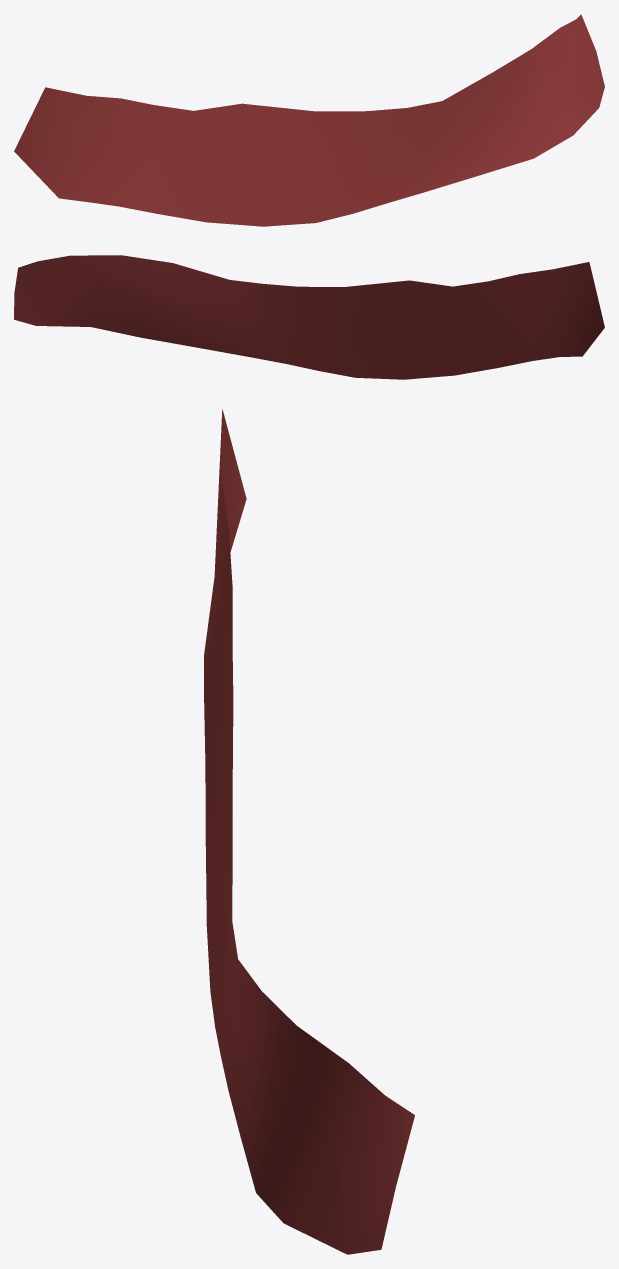
File: superficial-transverse-metacarpal-ligament-l.glb
The picture shows the model from 3 angles, top to bottom: view 1: azimuth 30°, elevation 25°; view 2: azimuth 150°, elevation 25°; view 3: azimuth 270°, elevation 25°; orthographic projection. The views are drawn at different scales.
Parts seen in each view (by area): view 1: Superficial transverse metacarpal ligament.l; view 2: Superficial transverse metacarpal ligament.l; view 3: Superficial transverse metacarpal ligament.l.
Boxes of the visible parts, bbox=[...] form: Superficial transverse metacarpal ligament.l: bbox=[14, 14, 604, 226]; Superficial transverse metacarpal ligament.l: bbox=[14, 255, 604, 379]; Superficial transverse metacarpal ligament.l: bbox=[204, 409, 414, 1254].
Bounding box in the file's own units: 0.0743 × 0.0226 × 0.0122.
